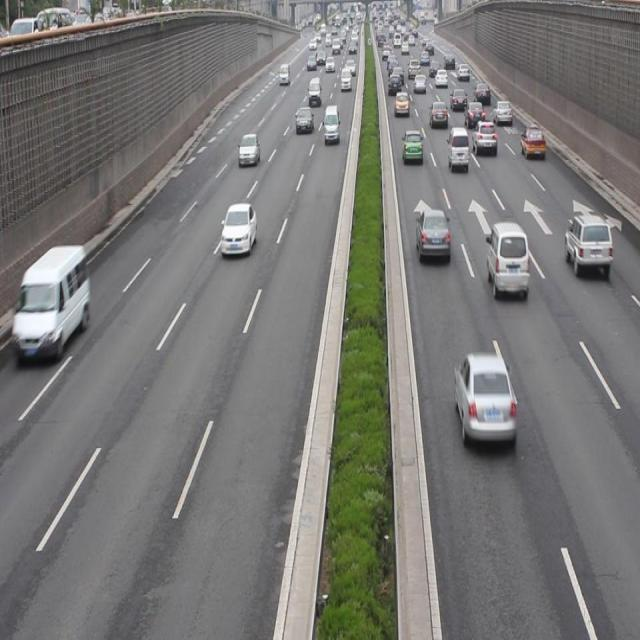car: (452, 349, 514, 450), (564, 212, 611, 281), (413, 207, 450, 264), (220, 203, 256, 259), (473, 119, 494, 158), (401, 129, 423, 165), (238, 133, 260, 169), (520, 128, 543, 158), (490, 96, 510, 128), (427, 100, 446, 126), (294, 107, 313, 129), (464, 104, 484, 124)
truck: (12, 246, 89, 356), (485, 224, 527, 296), (446, 127, 466, 173), (323, 104, 339, 143)
